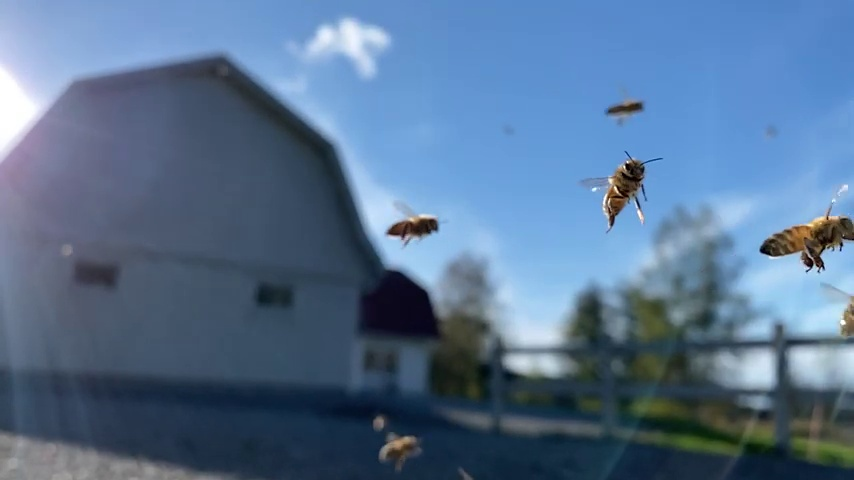insect: (760, 185, 853, 271), (580, 145, 661, 237), (385, 194, 443, 244), (378, 427, 423, 478), (601, 94, 646, 127)
